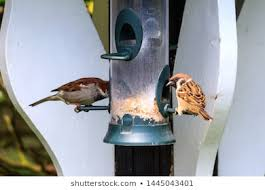home_sparrow: (29, 68, 111, 116), (160, 73, 221, 125)
